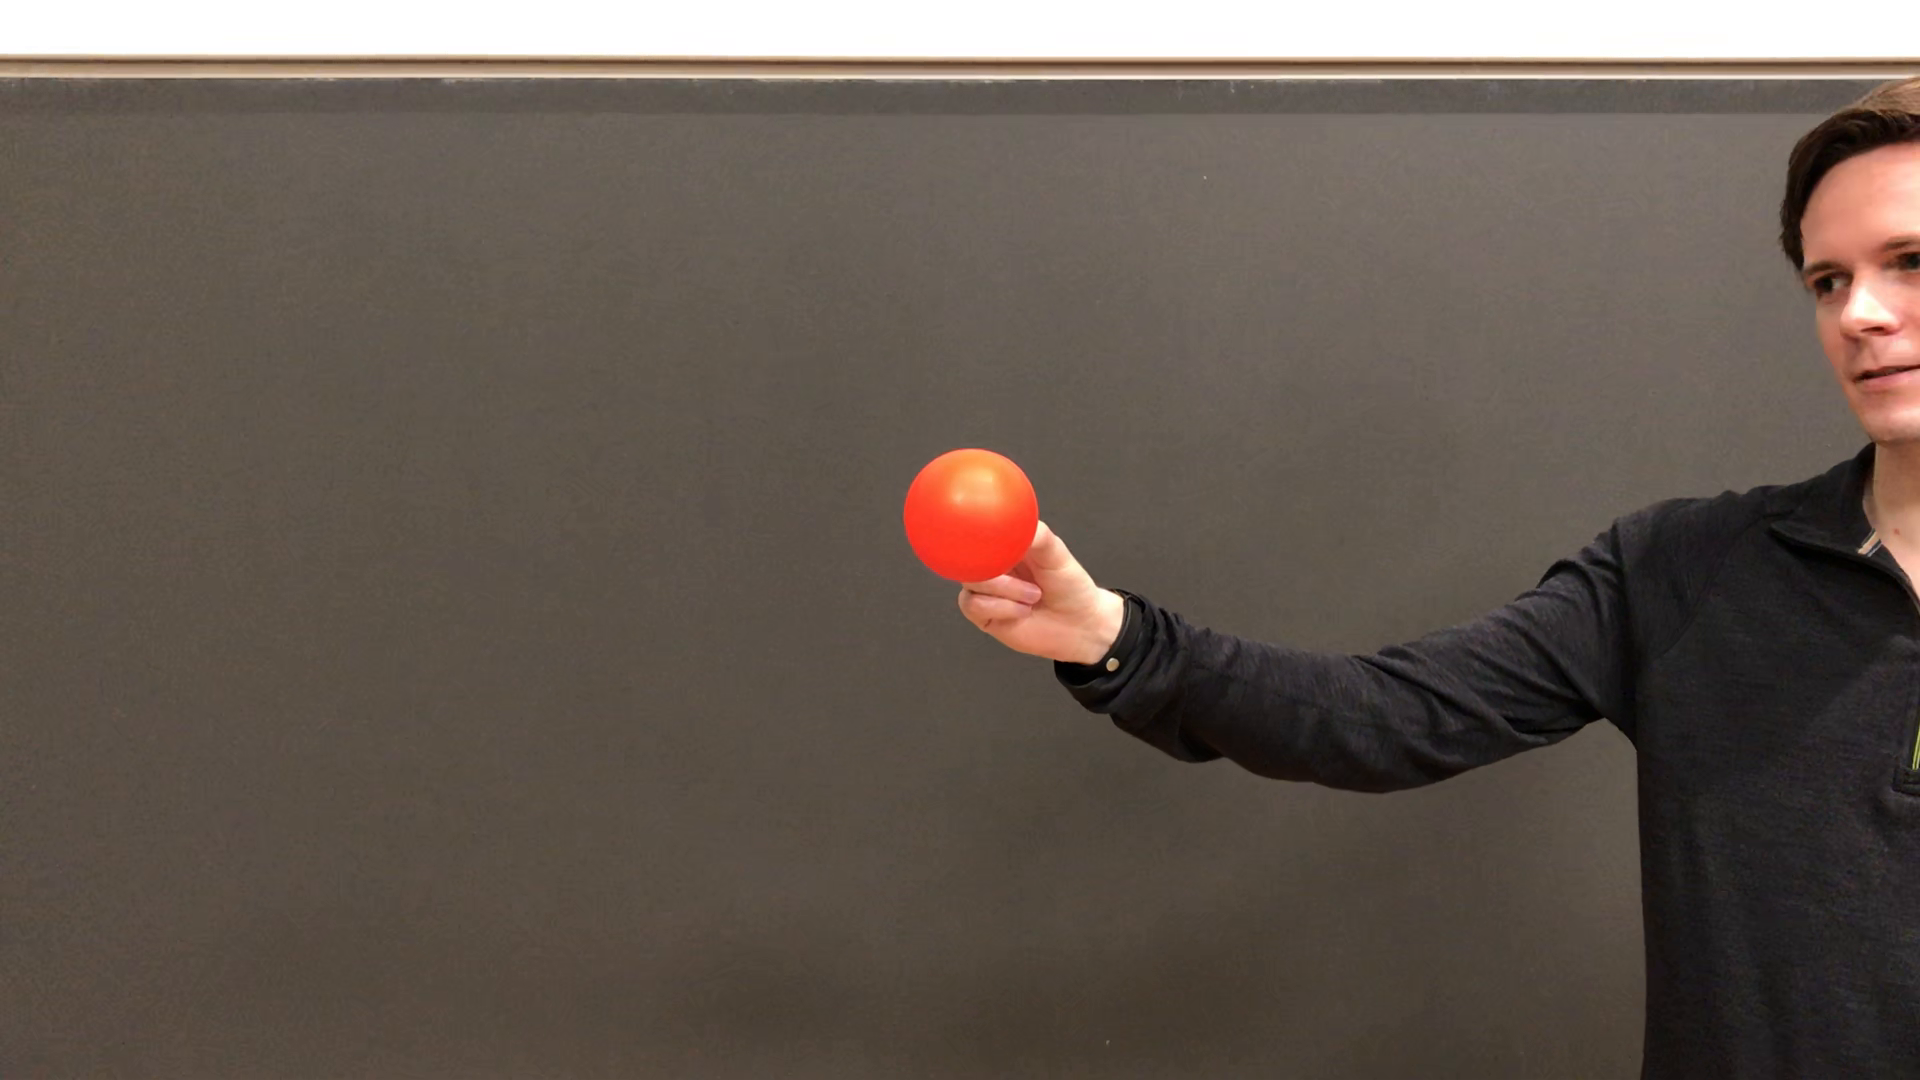Ball: (907, 450, 1054, 584)
